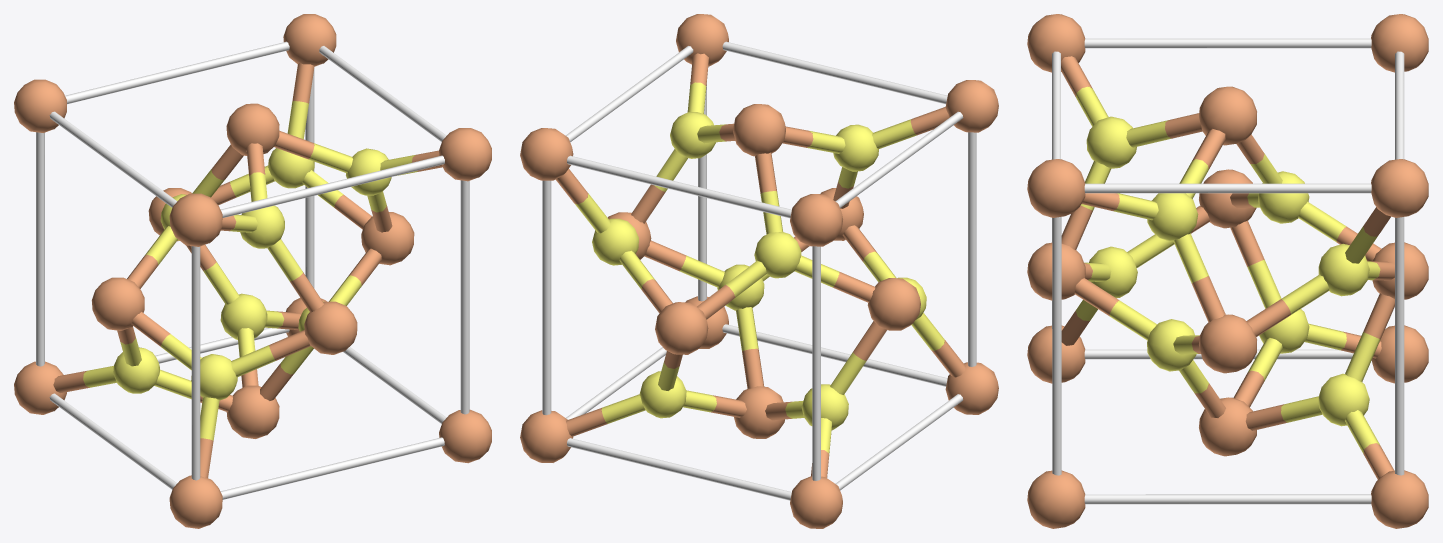
Rendered from pirita.fbx.
3 views of the same model, side by side, from view 1: azimuth 30°, elevation 25°; view 2: azimuth 150°, elevation 25°; view 3: azimuth 270°, elevation 25° (orthographic). The views are drawn at different scales.
Parts seen in each view (by area): view 1: Fe, limite., S; view 2: Fe, S, limite.; view 3: Fe, S, limite..
Part boxes in pixels (left/top/right/bottom): Fe: left=14, top=14, right=491, bottom=528; limite.: left=36, top=41, right=469, bottom=499; S: left=83, top=101, right=417, bottom=440; Fe: left=520, top=14, right=998, bottom=528; S: left=575, top=82, right=944, bottom=455; limite.: left=542, top=41, right=976, bottom=500; Fe: left=1027, top=14, right=1428, bottom=528; S: left=1075, top=86, right=1380, bottom=453; limite.: left=1052, top=38, right=1404, bottom=504.
Size of the model in its own units: 17.12 by 17.17 by 17.1.
